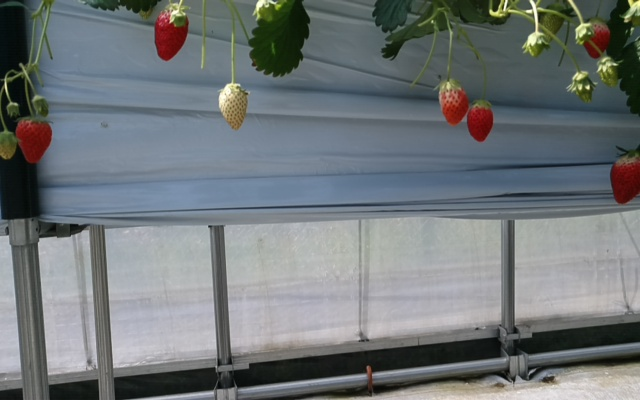GreenStrawberry: (214, 80, 252, 133), (1, 130, 21, 160)
MatureStrawberry: (153, 2, 190, 64), (605, 145, 640, 207), (13, 112, 53, 166), (438, 77, 471, 127), (464, 98, 495, 143), (580, 17, 610, 57)
